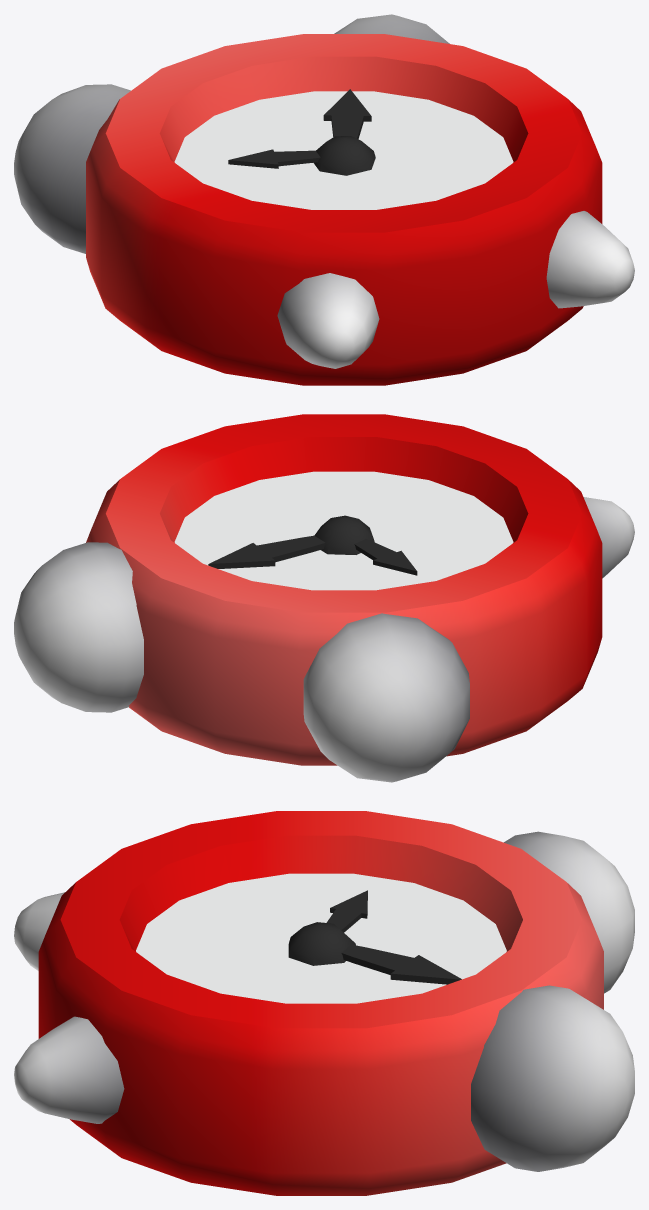
Rendered from Clock.fbx.
The picture shows the model from 3 angles, top to bottom: view 1: azimuth 30°, elevation 25°; view 2: azimuth 150°, elevation 25°; view 3: azimuth 270°, elevation 25°; orthographic projection. The views are drawn at different scales.
Parts seen in each view (by area): view 1: clock; view 2: clock; view 3: clock.
Part boxes in pixels (x1,y1,x2,y2): clock: (14,14,634,385); clock: (14,414,634,782); clock: (14,811,634,1195).
Size of the model in its own units: 226 by 76.58 by 252.
1 material, 1 textured.
